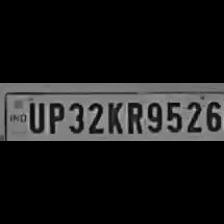2: (84, 99, 104, 134), (184, 99, 202, 133)
3: (64, 99, 84, 134)
5: (164, 97, 182, 132)
6: (204, 99, 222, 133)
9: (144, 99, 162, 134)
K: (105, 99, 123, 134)
P: (46, 99, 64, 134)
R: (123, 99, 143, 135)
U: (24, 100, 44, 132)
